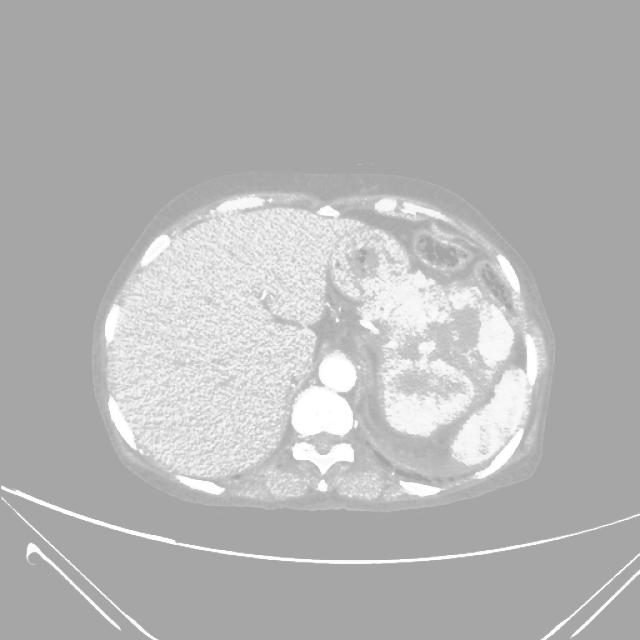TUMOR: (374, 293, 573, 482)
